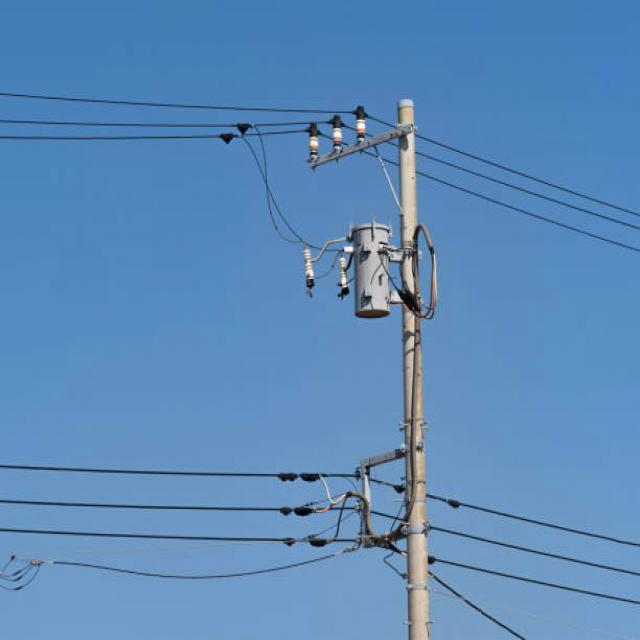crossarm: (310, 106, 416, 211), (355, 445, 409, 547)
pole: (397, 99, 431, 640)
transformer: (345, 216, 403, 321)
wire: (0, 90, 640, 219), (0, 125, 640, 253), (6, 545, 361, 583), (0, 464, 405, 494), (427, 494, 640, 548), (428, 524, 640, 577), (0, 498, 405, 524), (428, 556, 640, 605), (0, 526, 358, 543)
